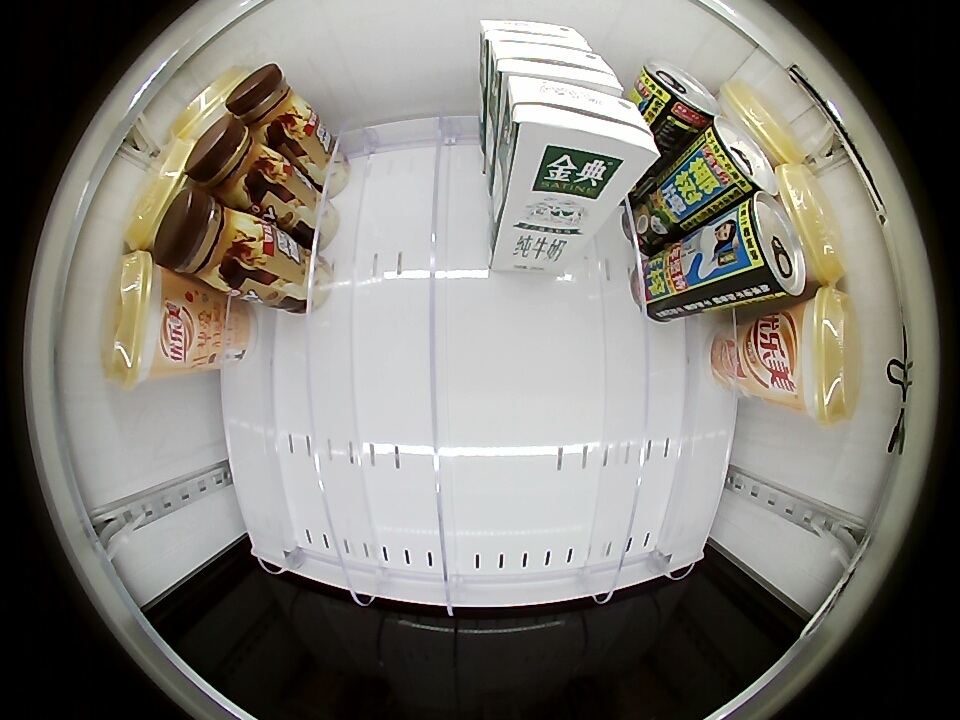jindian: (499, 73, 660, 193), (485, 39, 623, 94), (478, 18, 593, 52)
lujikafei: (155, 188, 260, 288), (186, 114, 273, 206), (226, 62, 305, 140)
yezhi: (731, 192, 807, 303), (634, 59, 718, 135), (701, 115, 775, 198)
youlemei: (786, 286, 859, 425), (104, 252, 177, 388), (777, 162, 847, 287), (123, 136, 195, 248), (721, 80, 803, 169), (171, 69, 241, 140)
